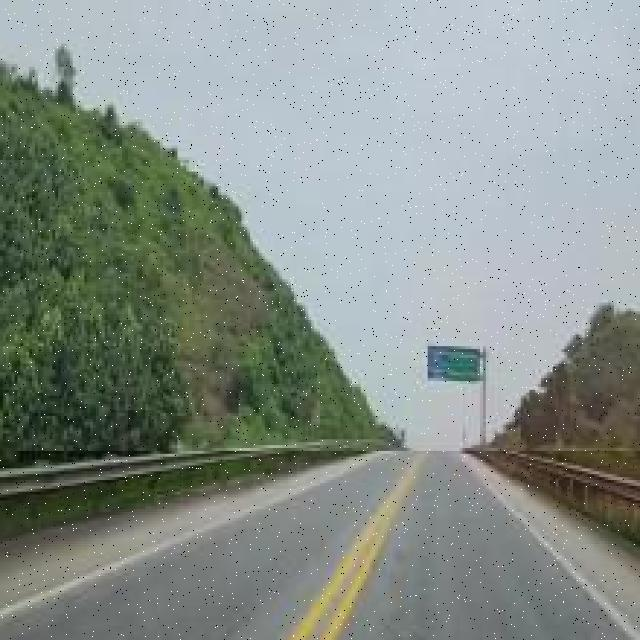clear-road: (0, 452, 640, 640)
